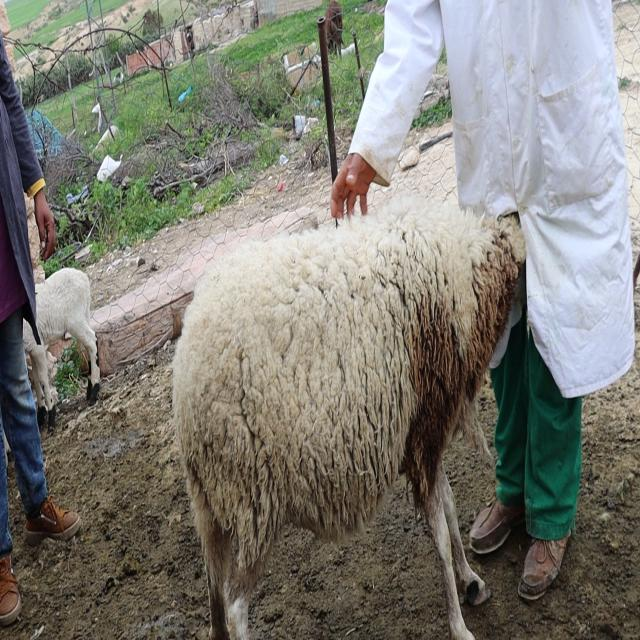Score_3: (173, 198, 525, 639)
